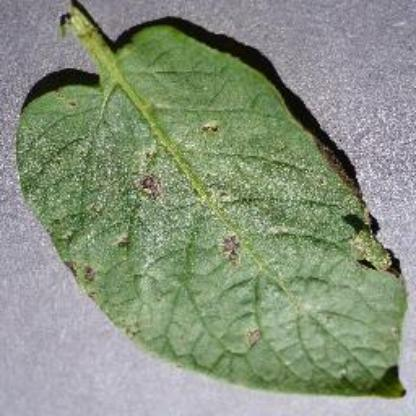Early-Blight: (16, 5, 408, 400)
